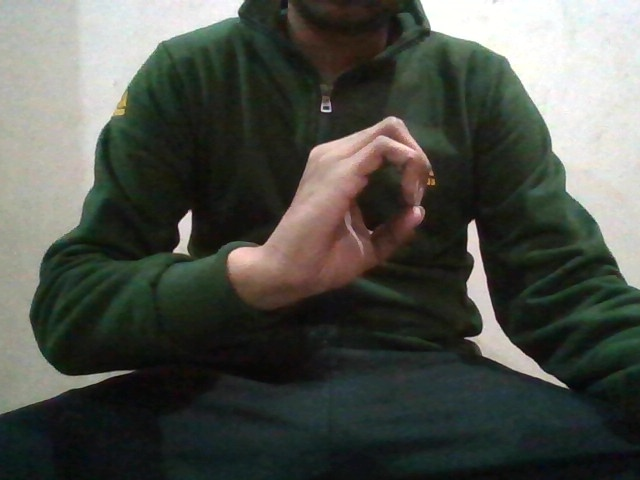O: (286, 118, 451, 295)
